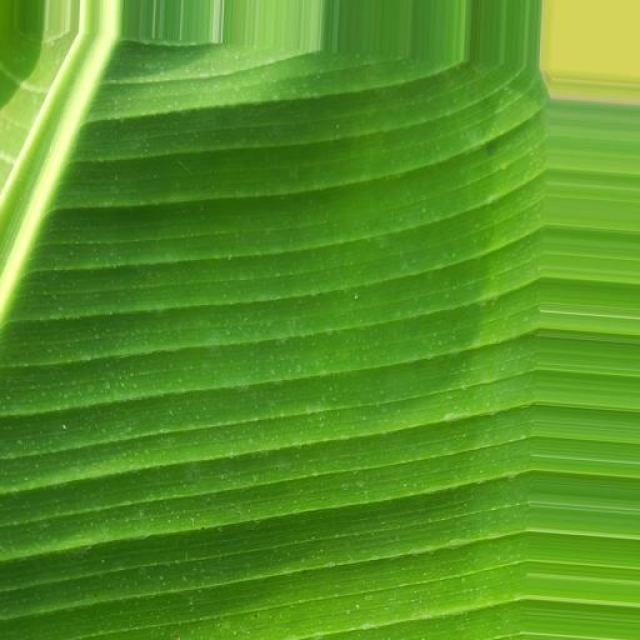Black_leaf_spot: (0, 50, 634, 615)
